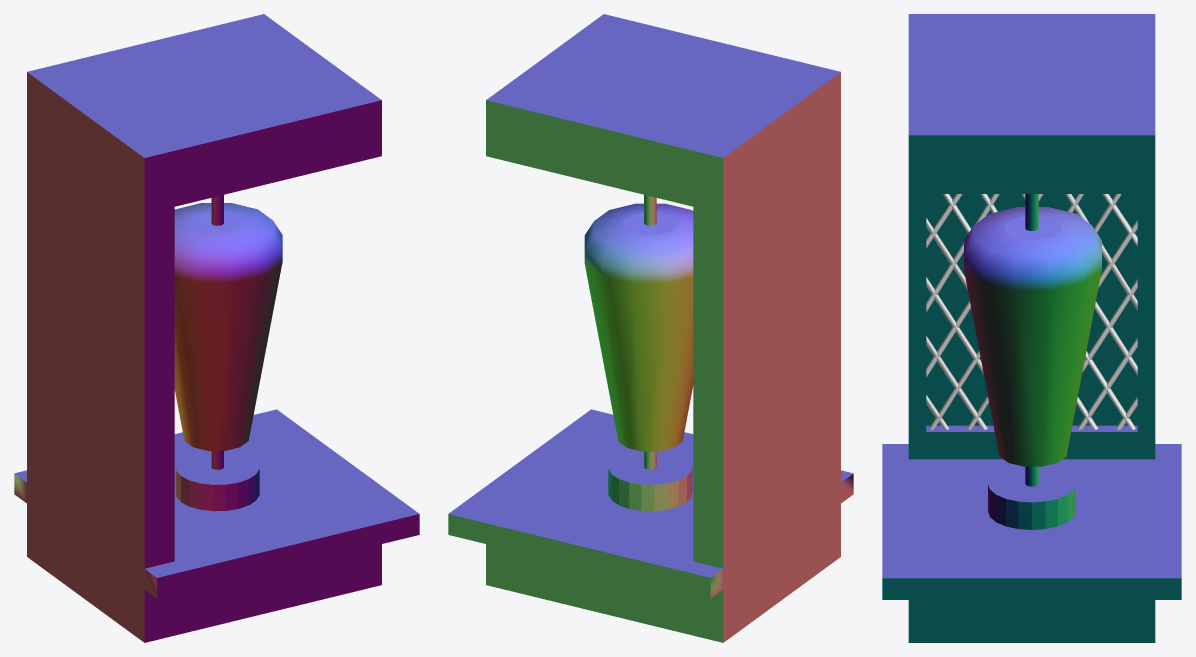
File: donergrave (1).fbx
The picture shows the model from 3 angles, left to right: view 1: azimuth 30°, elevation 25°; view 2: azimuth 150°, elevation 25°; view 3: azimuth 270°, elevation 25°; orthographic projection. The views are drawn at different scales.
Parts seen in each view (by area): view 1: pCube1, pCube2, pCylinder1; view 2: pCube1, pCube2, pCylinder1; view 3: pCube1, pCube2, pCylinder1, pCylinder22, pCylinder6, pCylinder2, pCylinder5, pCylinder9, pCylinder8.
Boxes of the visible parts, left/top/right/bottom form: pCube1: left=14, top=14, right=419, bottom=642; pCube2: left=174, top=203, right=282, bottom=450; pCylinder1: left=175, top=195, right=259, bottom=511; pCube1: left=448, top=14, right=853, bottom=642; pCube2: left=584, top=203, right=693, bottom=451; pCylinder1: left=608, top=195, right=692, bottom=511; pCube1: left=882, top=14, right=1181, bottom=642; pCube2: left=964, top=207, right=1101, bottom=466; pCylinder1: left=988, top=194, right=1075, bottom=529; pCylinder22: left=926, top=194, right=1137, bottom=429; pCylinder6: left=926, top=336, right=987, bottom=429; pCylinder2: left=981, top=194, right=1135, bottom=429; pCylinder5: left=926, top=277, right=983, bottom=374; pCylinder9: left=1065, top=194, right=1137, bottom=310; pCylinder8: left=1021, top=194, right=1137, bottom=375.
Bounding box in the file's own units: 1.29 × 2.27 × 1.21.
